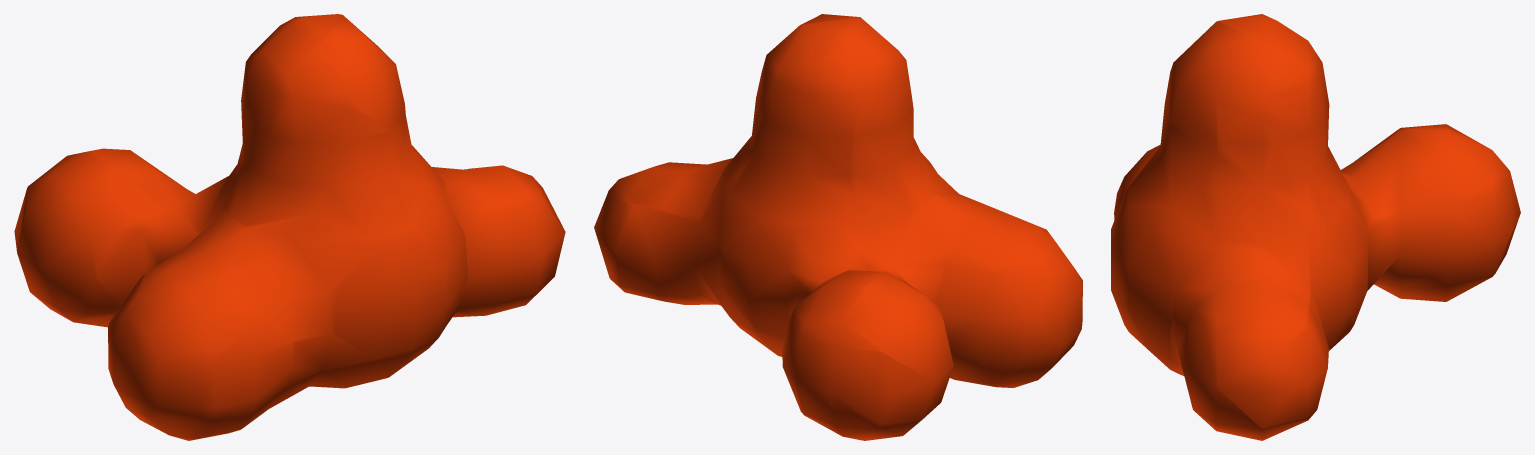
The model's file is bush2.fbx.
3 views of the same model, side by side, from view 1: azimuth 30°, elevation 25°; view 2: azimuth 150°, elevation 25°; view 3: azimuth 270°, elevation 25° (orthographic). The views are drawn at different scales.
Visible parts, largest first — view 1: Mball; view 2: Mball; view 3: Mball.
Boxes of the visible parts, x1,y1,x2,y2 form: Mball: [14, 14, 565, 440]; Mball: [594, 14, 1082, 440]; Mball: [1111, 14, 1520, 440].
Bounding box in the file's own units: 830 × 612 × 641.
